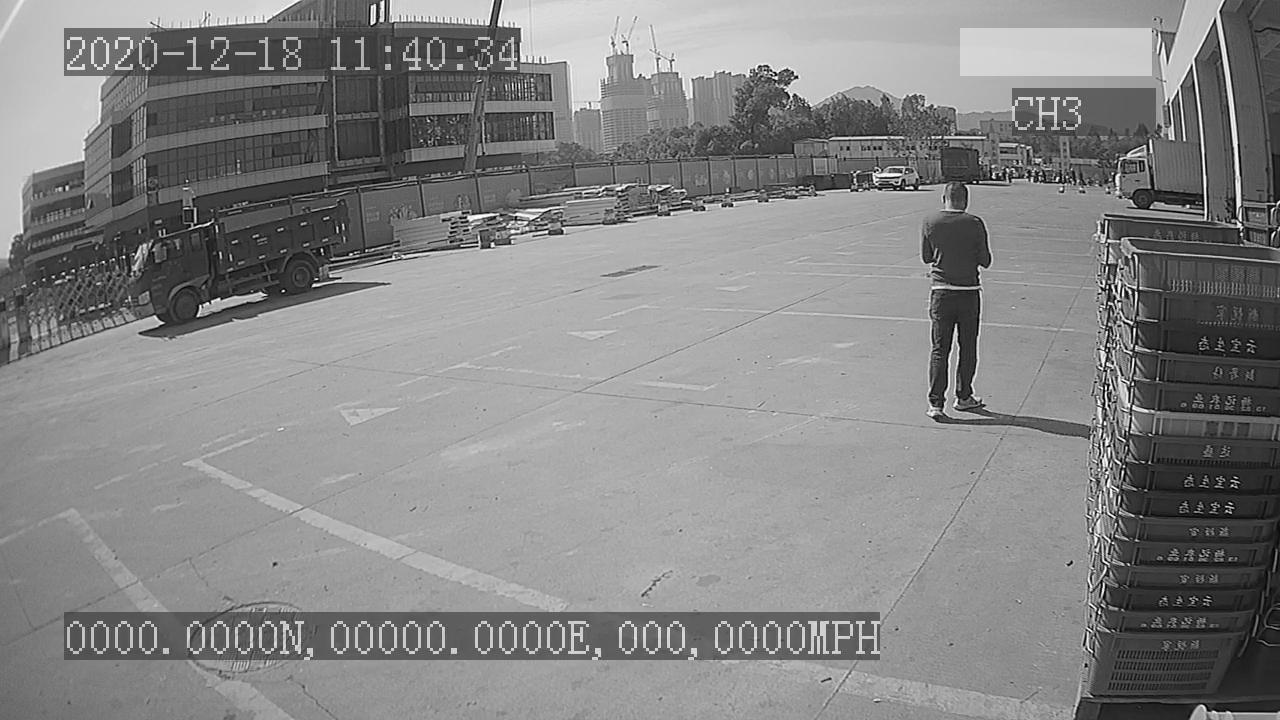person: (917, 178, 999, 423)
